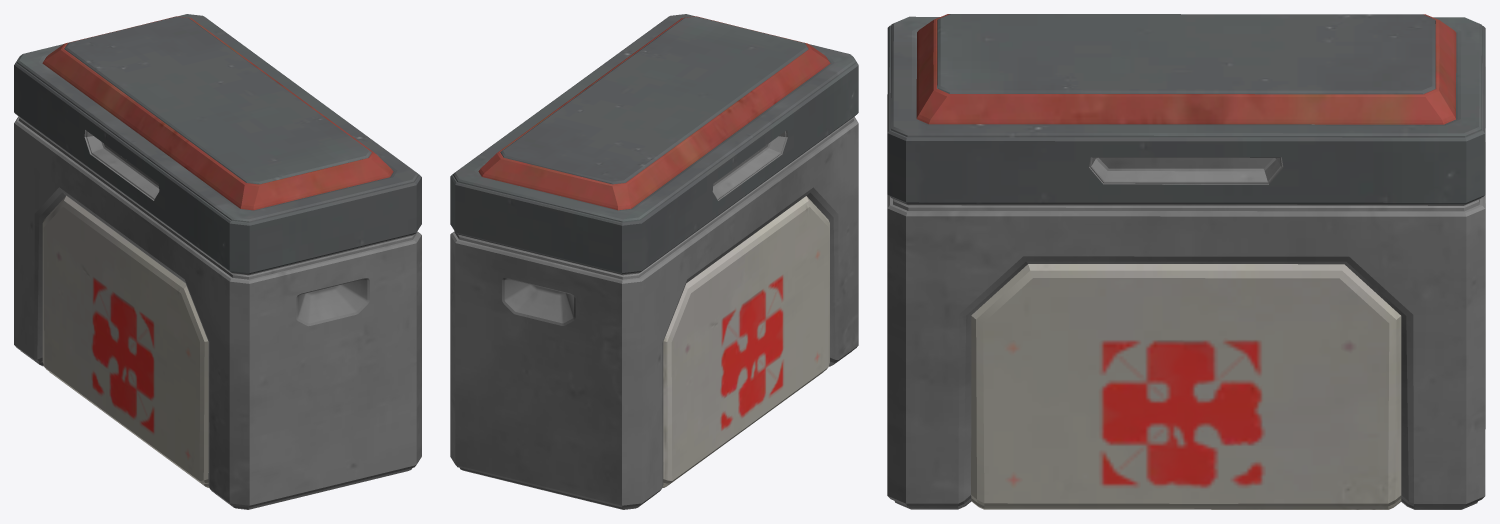
File: firstaidbox-transformed.glb
3 views of the same model, side by side, from view 1: azimuth 30°, elevation 25°; view 2: azimuth 150°, elevation 25°; view 3: azimuth 270°, elevation 25° (orthographic). The views are drawn at different scales.
Visible parts, largest first — view 1: firstAidTrigger; view 2: firstAidTrigger; view 3: firstAidTrigger.
Boxes of the visible parts, bbox=[...] form: firstAidTrigger: bbox=[14, 14, 421, 509]; firstAidTrigger: bbox=[450, 14, 858, 509]; firstAidTrigger: bbox=[887, 14, 1485, 509].
Bounding box in the file's own units: 3.49 × 5.37 × 7.24.
Materials: 5 (5 with a texture image).
